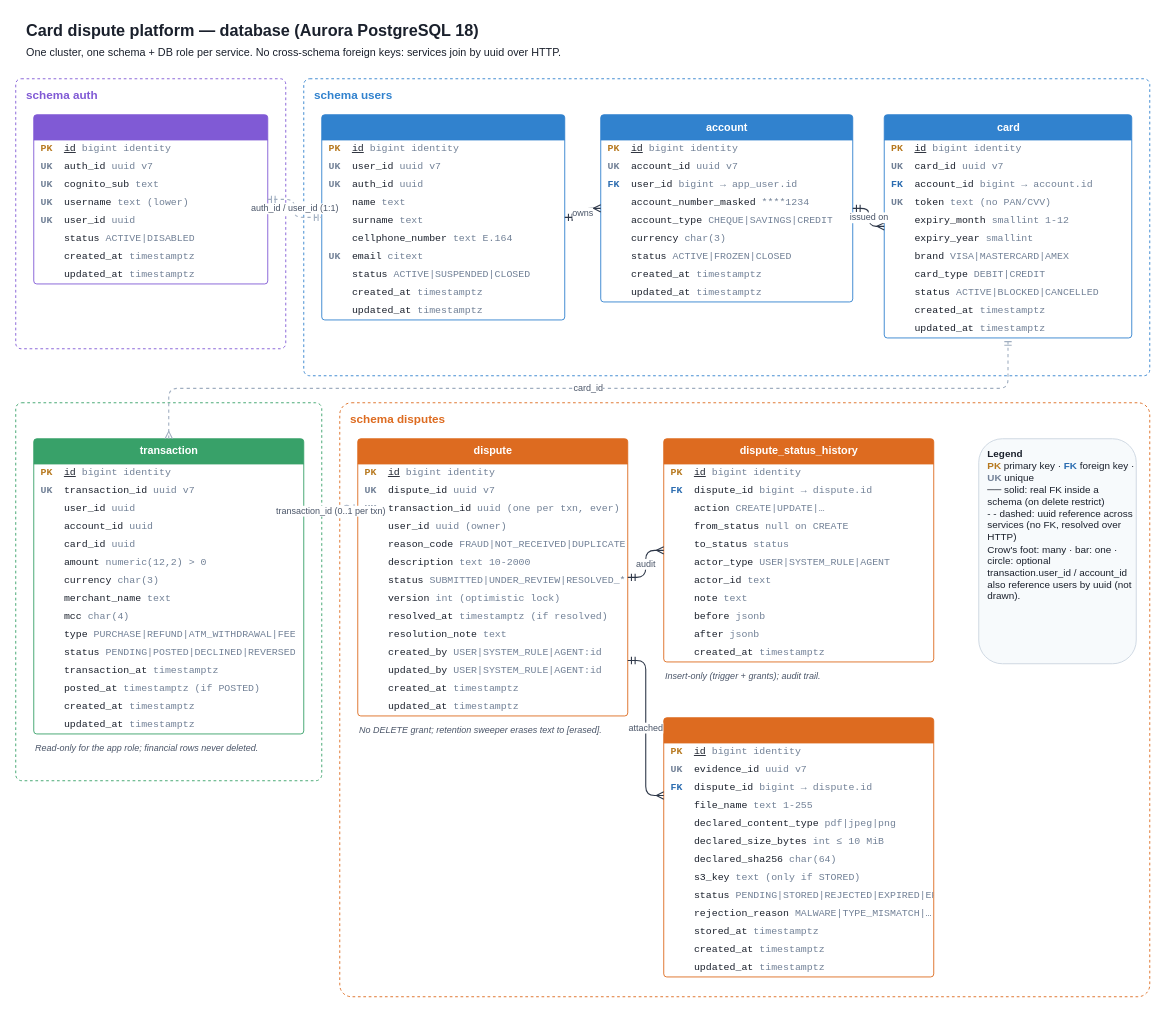
Image size: 1166x1013. Some labels were removed from this diagram. The shapes that lost their labels are listed below. From the top down, each one's box as (x1, y1, x2, y2) in pixels, then its label:
(33, 114, 268, 284): auth_identity
(321, 114, 565, 320): app_user
(15, 402, 322, 781): schema transactions
(663, 717, 934, 977): dispute_evidence
